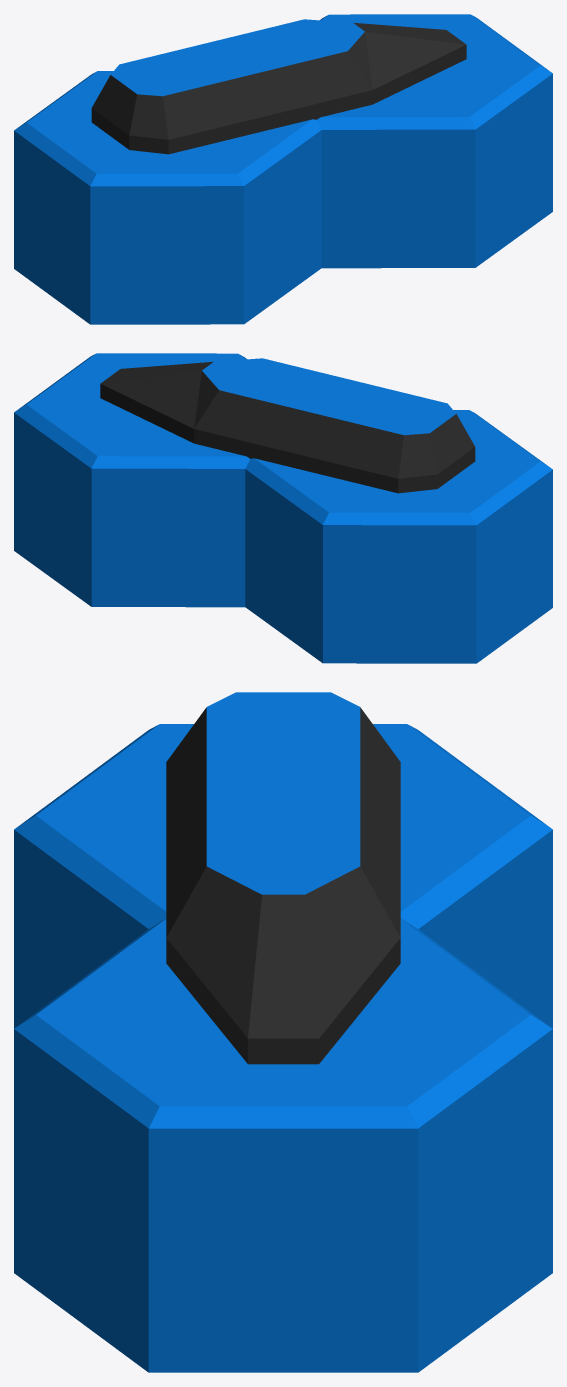
The model's file is SM_Module_Bridge_BO.fbx.
The picture shows the model from 3 angles, top to bottom: view 1: azimuth 30°, elevation 25°; view 2: azimuth 150°, elevation 25°; view 3: azimuth 270°, elevation 25°; orthographic projection. The views are drawn at different scales.
Visible parts, largest first — view 1: SM_Module_Bridge_BO; view 2: SM_Module_Bridge_BO; view 3: SM_Module_Bridge_BO.
Part boxes in pixels (box(x1,y1,x2,y2)): SM_Module_Bridge_BO: box(14, 14, 552, 324); SM_Module_Bridge_BO: box(14, 353, 552, 663); SM_Module_Bridge_BO: box(14, 692, 552, 1372).
Size of the model in its own units: 7 by 2.82 by 4.
